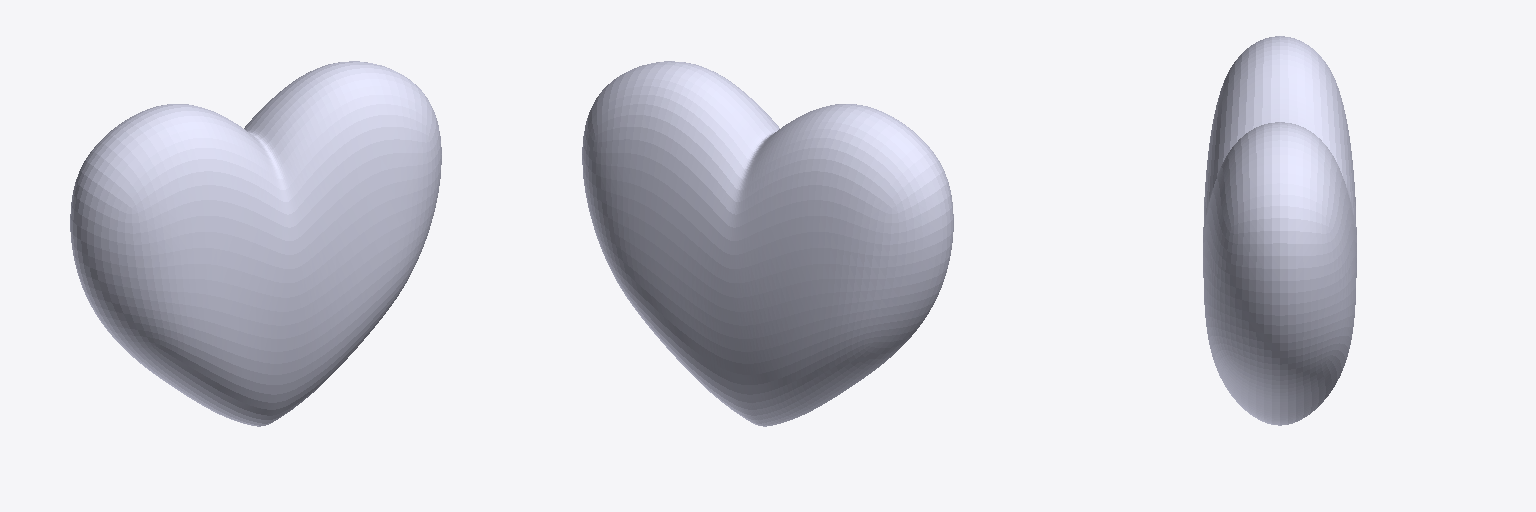
The model's file is extralife.obj.
3 views of the same model, side by side, from view 1: azimuth 30°, elevation 25°; view 2: azimuth 150°, elevation 25°; view 3: azimuth 270°, elevation 25° (orthographic).
Parts seen in each view (by area): view 1: Heart_Heart; view 2: Heart_Heart; view 3: Heart_Heart.
Part boxes in pixels (x1,y1,x2,y2): Heart_Heart: (70,61,441,426); Heart_Heart: (582,61,953,426); Heart_Heart: (1203,36,1356,425).
Bounding box in the file's own units: 2 × 1.79 × 0.7427.